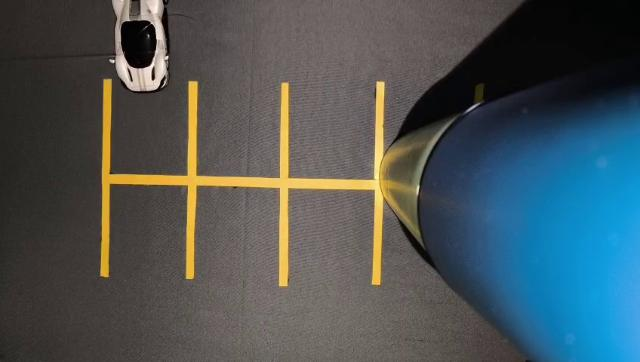toy_car: (75, 0, 190, 111)
